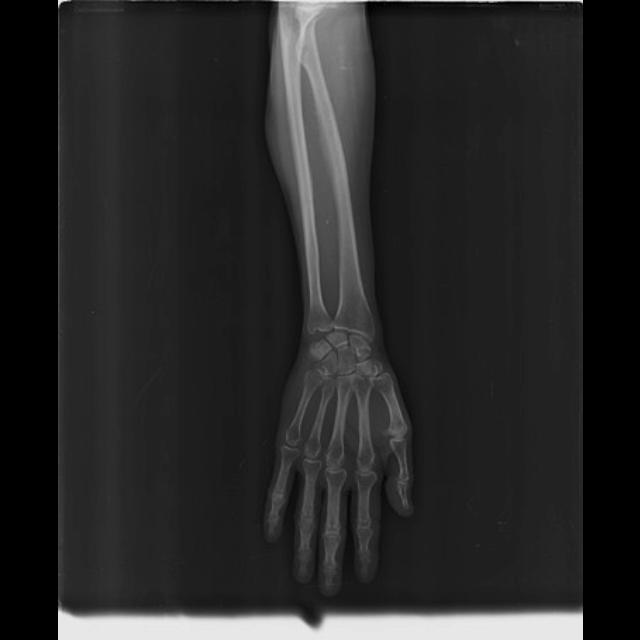fractured: (298, 188, 315, 215)
